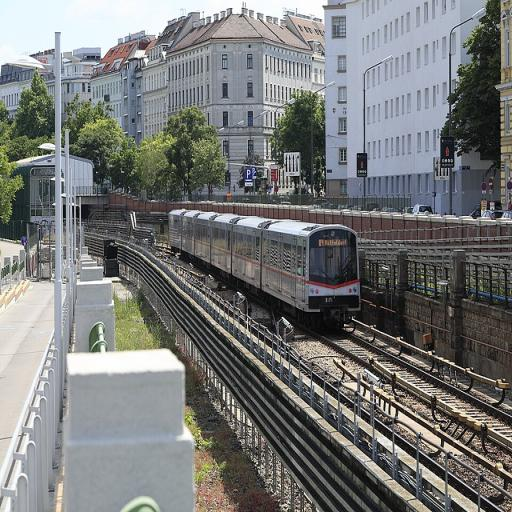V-Wagen: (168, 204, 364, 335)
